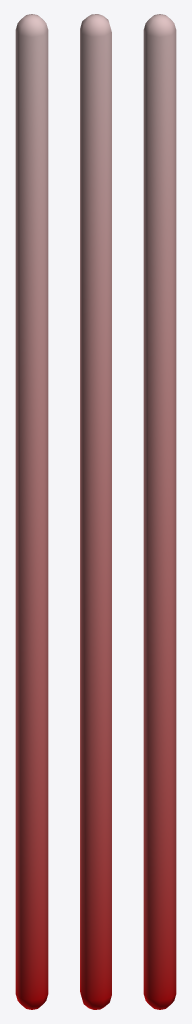
File: LightSaber.obj
3 views of the same model, side by side, from view 1: azimuth 90°, elevation 25°; view 2: azimuth 210°, elevation 25°; view 3: azimuth 270°, elevation 25° (orthographic).
Bounding box in the file's own units: 2.7 × 90.06 × 2.7.
